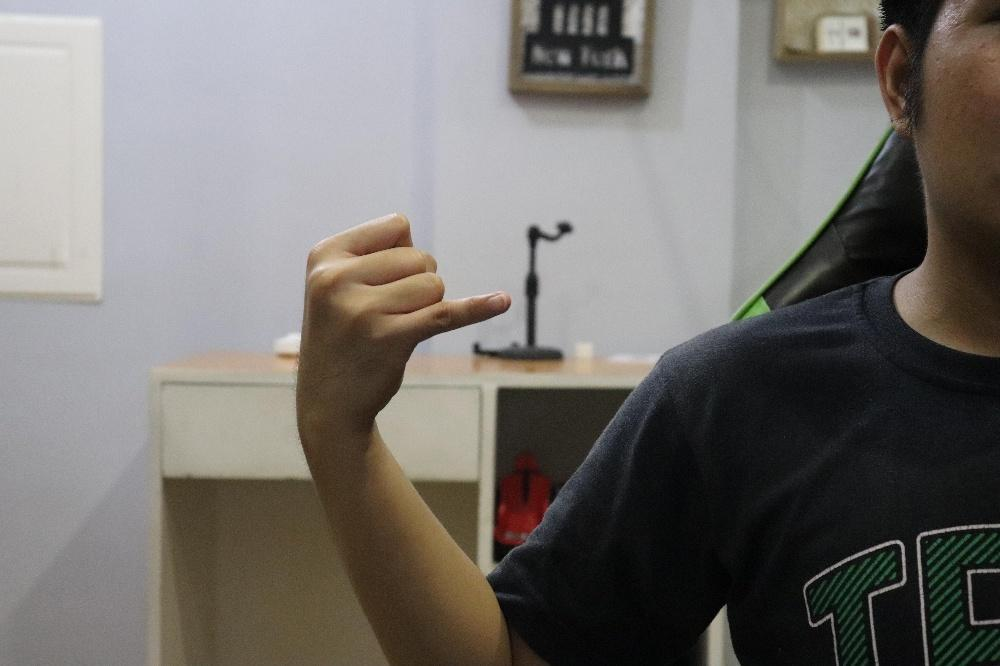j: (294, 210, 511, 433)
